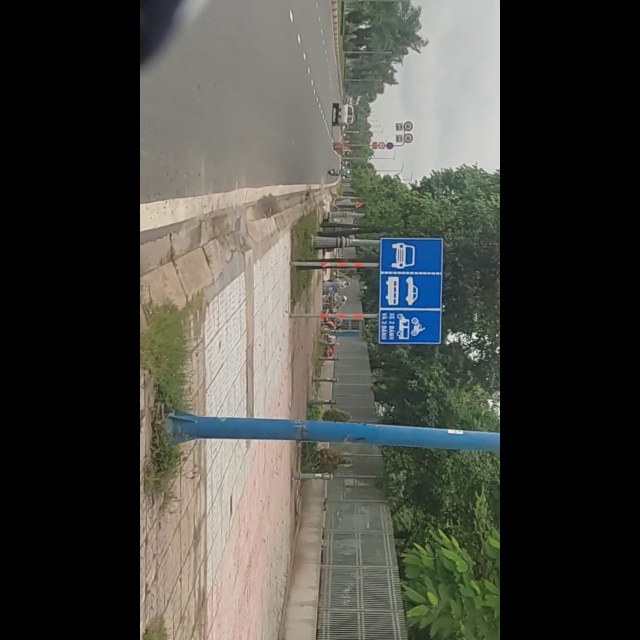bien_chi_dan: (420, 233, 536, 349)
